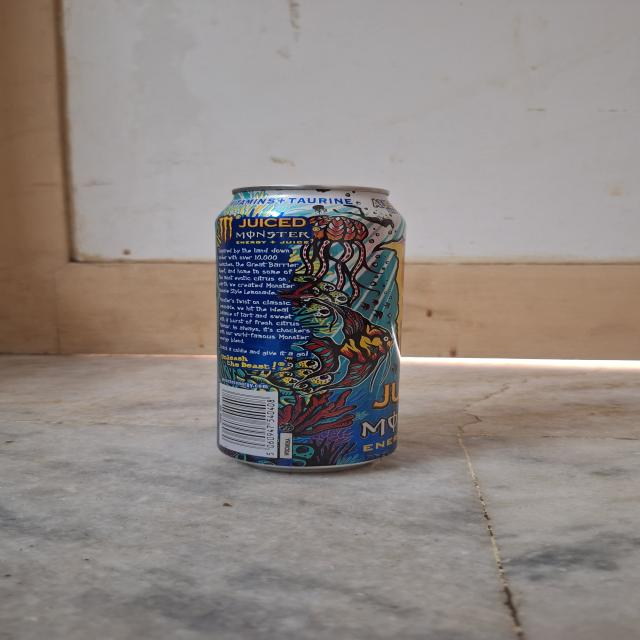Monster Aussie Lemonade: (210, 173, 410, 480)
